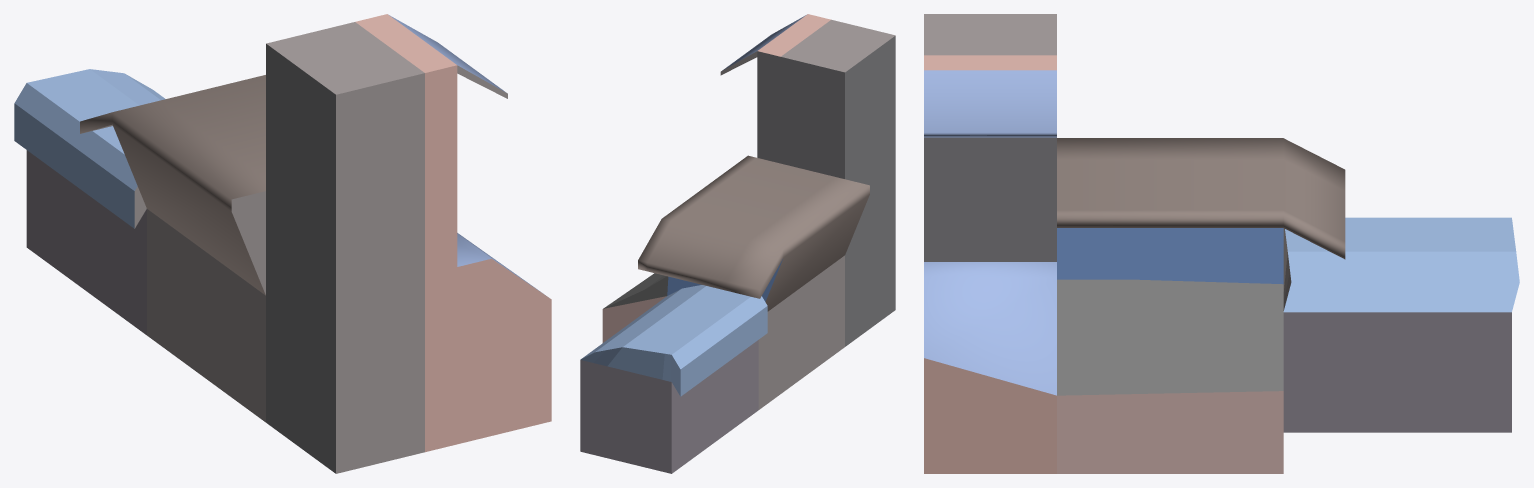
Rendered from Backgroundhouses3.fbx.
3 renders of one model, left to right at view 1: azimuth 30°, elevation 25°; view 2: azimuth 150°, elevation 25°; view 3: azimuth 270°, elevation 25°, orthographic. The views are drawn at different scales.
Parts seen in each view (by area): view 1: Cube; view 2: Cube; view 3: Cube.
Boxes of the visible parts, x1,y1,x2,y2 form: Cube: (14,14,551,473); Cube: (580,14,895,473); Cube: (924,14,1519,473).
Bounding box in the file's own units: 412 × 598 × 896.
